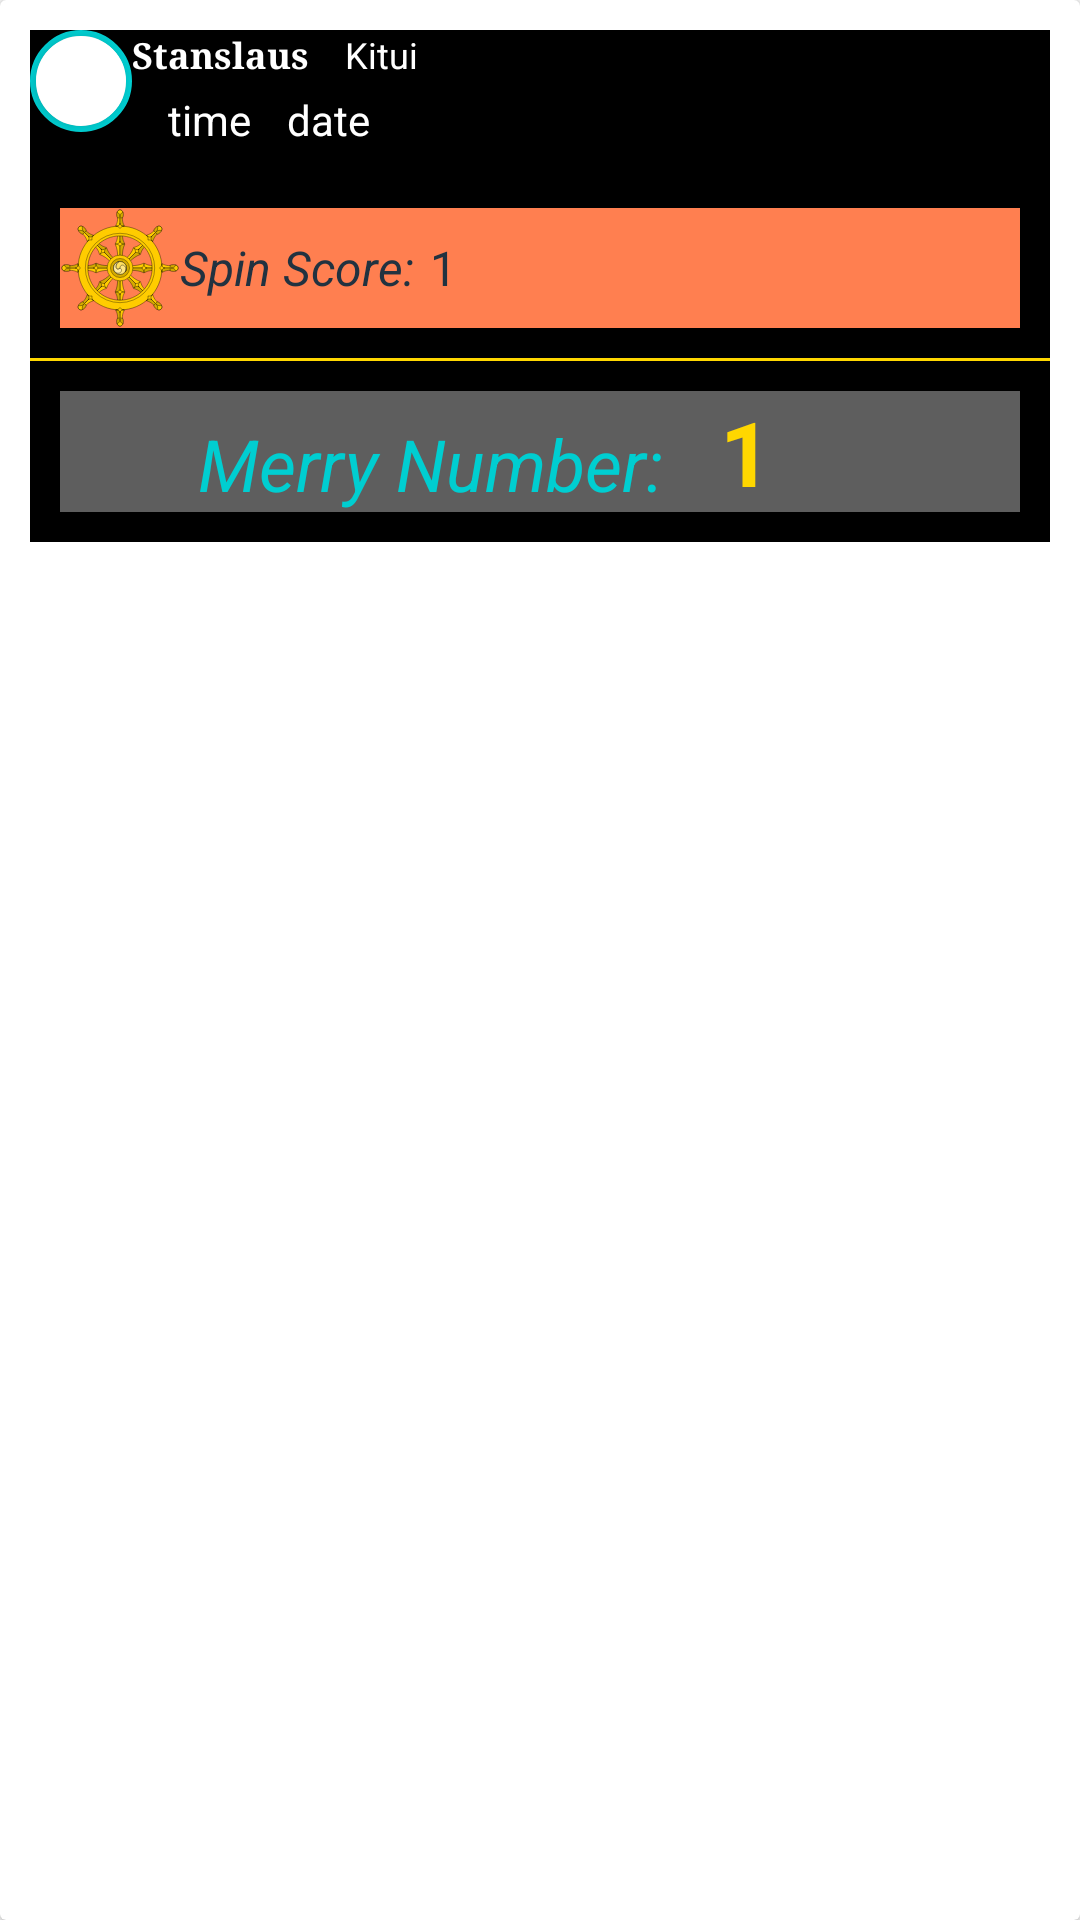

Where to tap for icons on this 1080px×1920px app screen, as [x,y]:
dama: [120,268]
